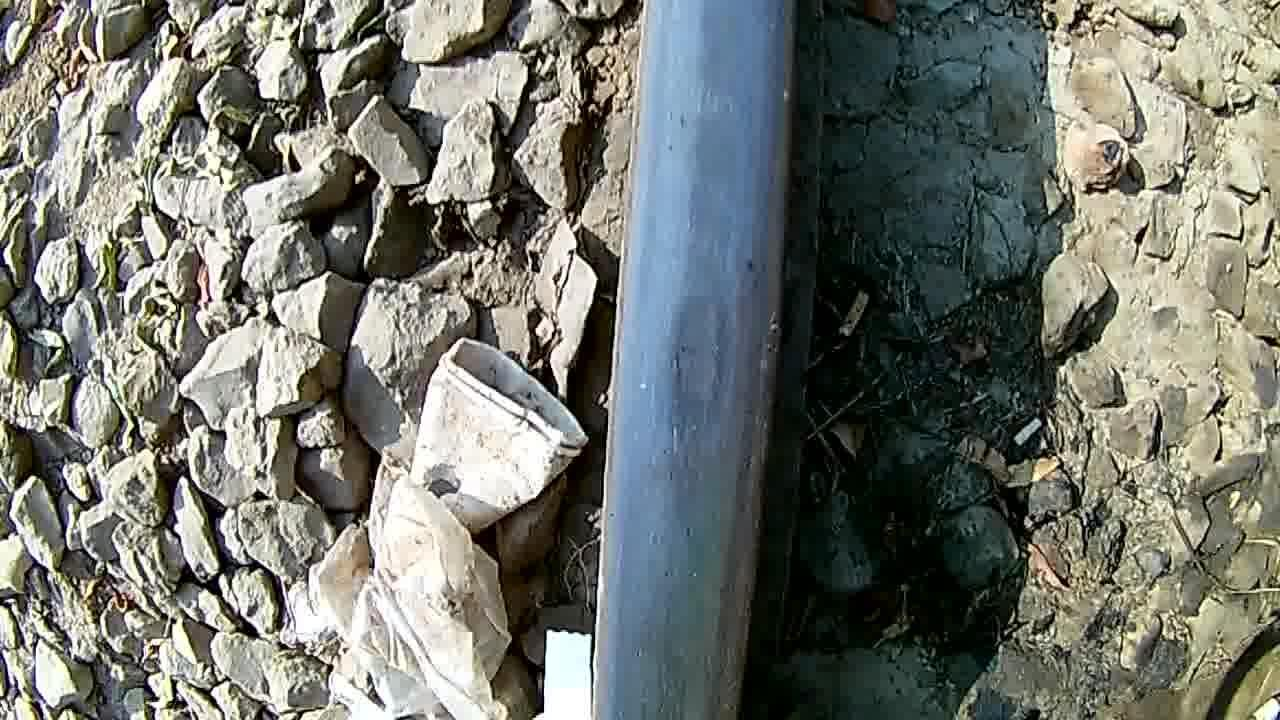crack: (612, 0, 808, 720)
